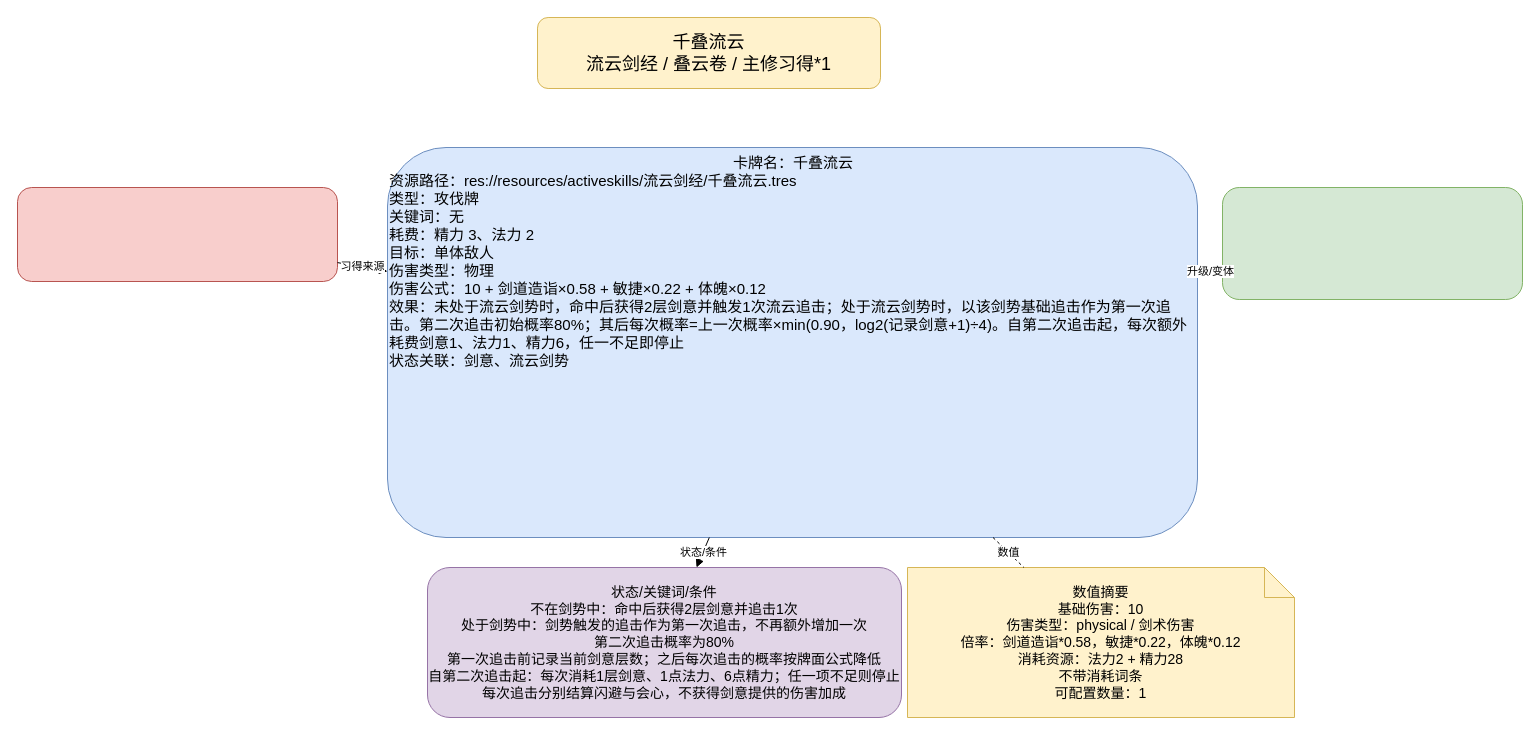
Image size: 1540x735. Some labels were removed from this diagram. Here are the shapes that lost their labels. From the top down, the centre of each, then its label:
At (x=177, y=234): "习得来源 来源秘籍：流云剑经 来源卷：叠云卷 主修习得数量：1".
At (x=1372, y=243): "升级/变体预留 同系：流云剑经 定位：高卷主修获得牌 奖励维持住流云剑势后的多段追击 意象：云势层叠，剑锋连绵".
